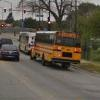Bus: (30, 26, 81, 69)
